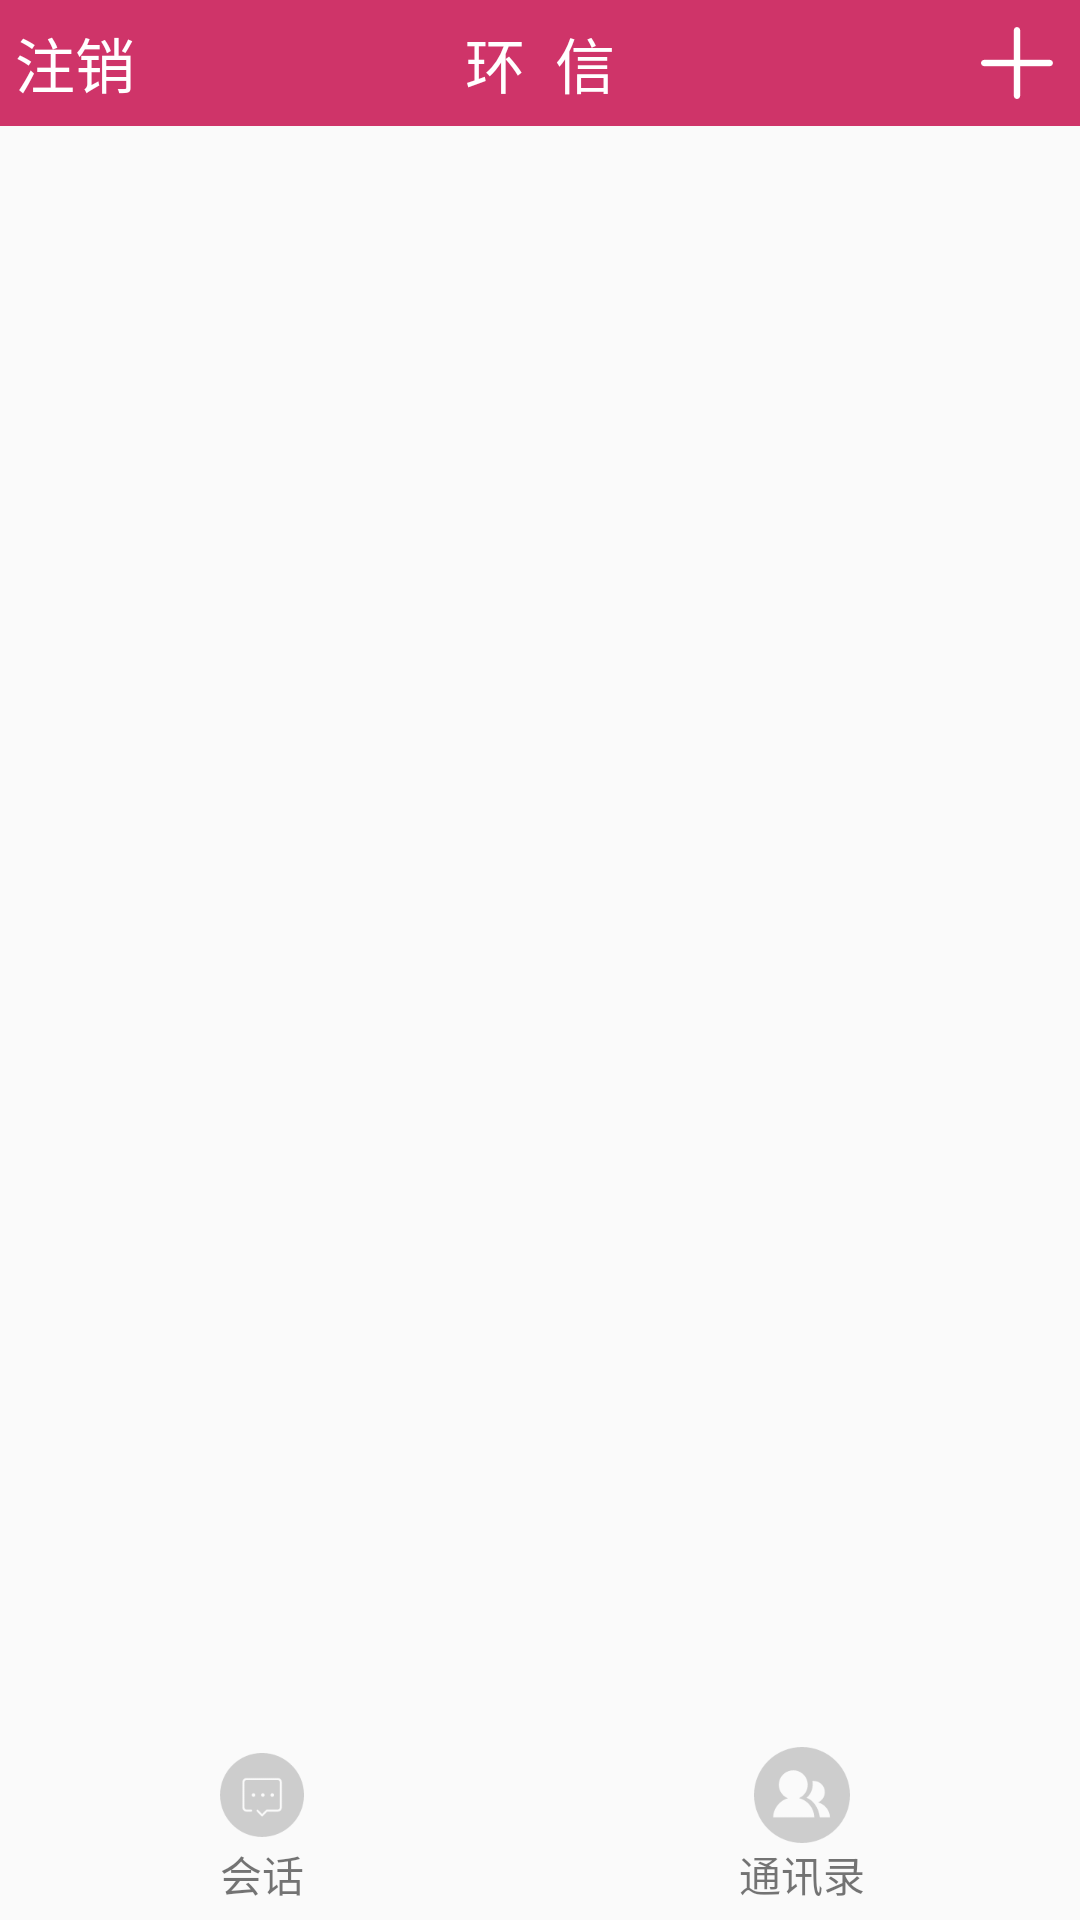

Named icons in this screenshot (1080w x 1920h) and their centers, (x=x, y=y):
add: (x=1017, y=63)
